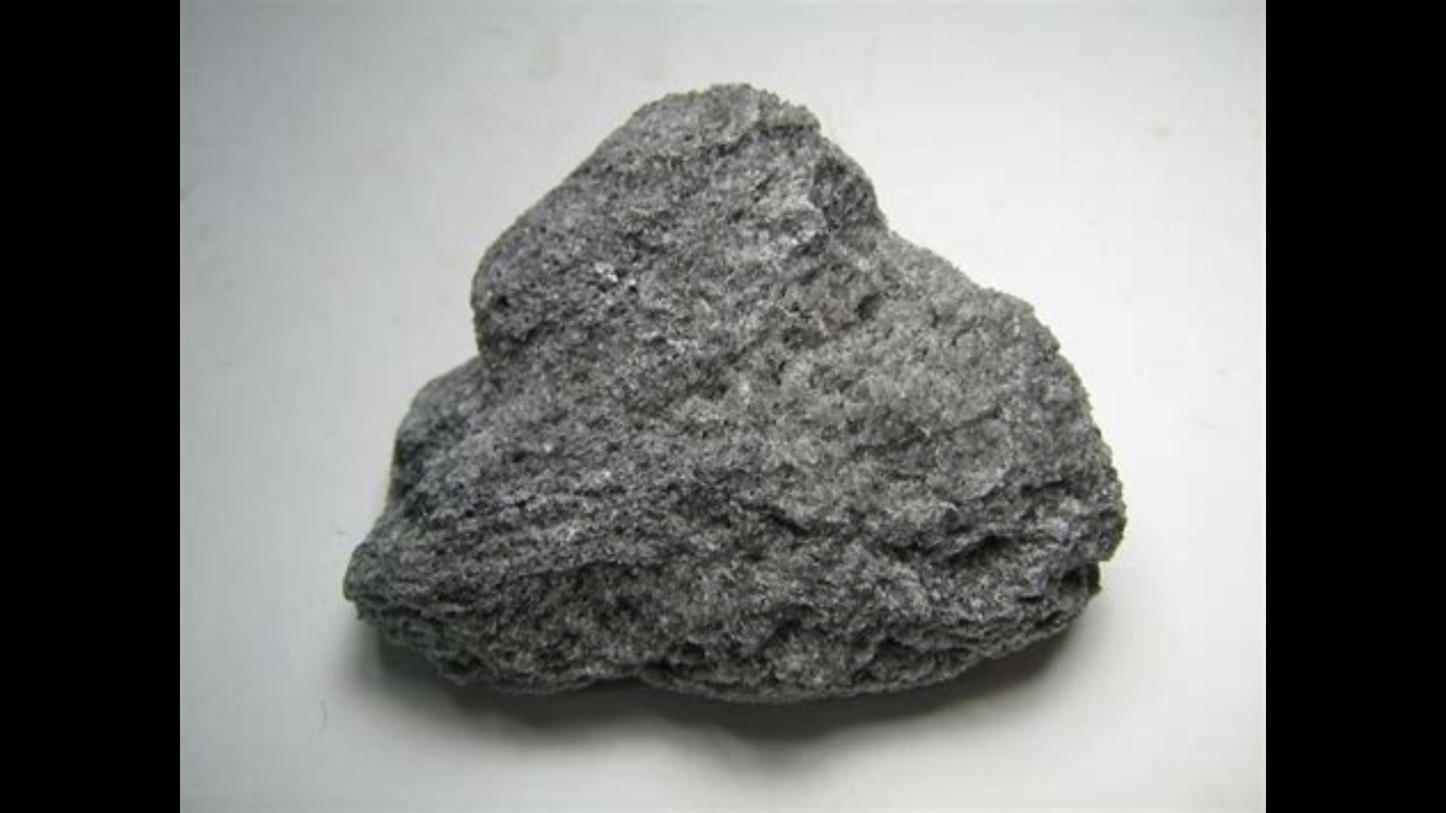rock: (345, 85, 1119, 698)
